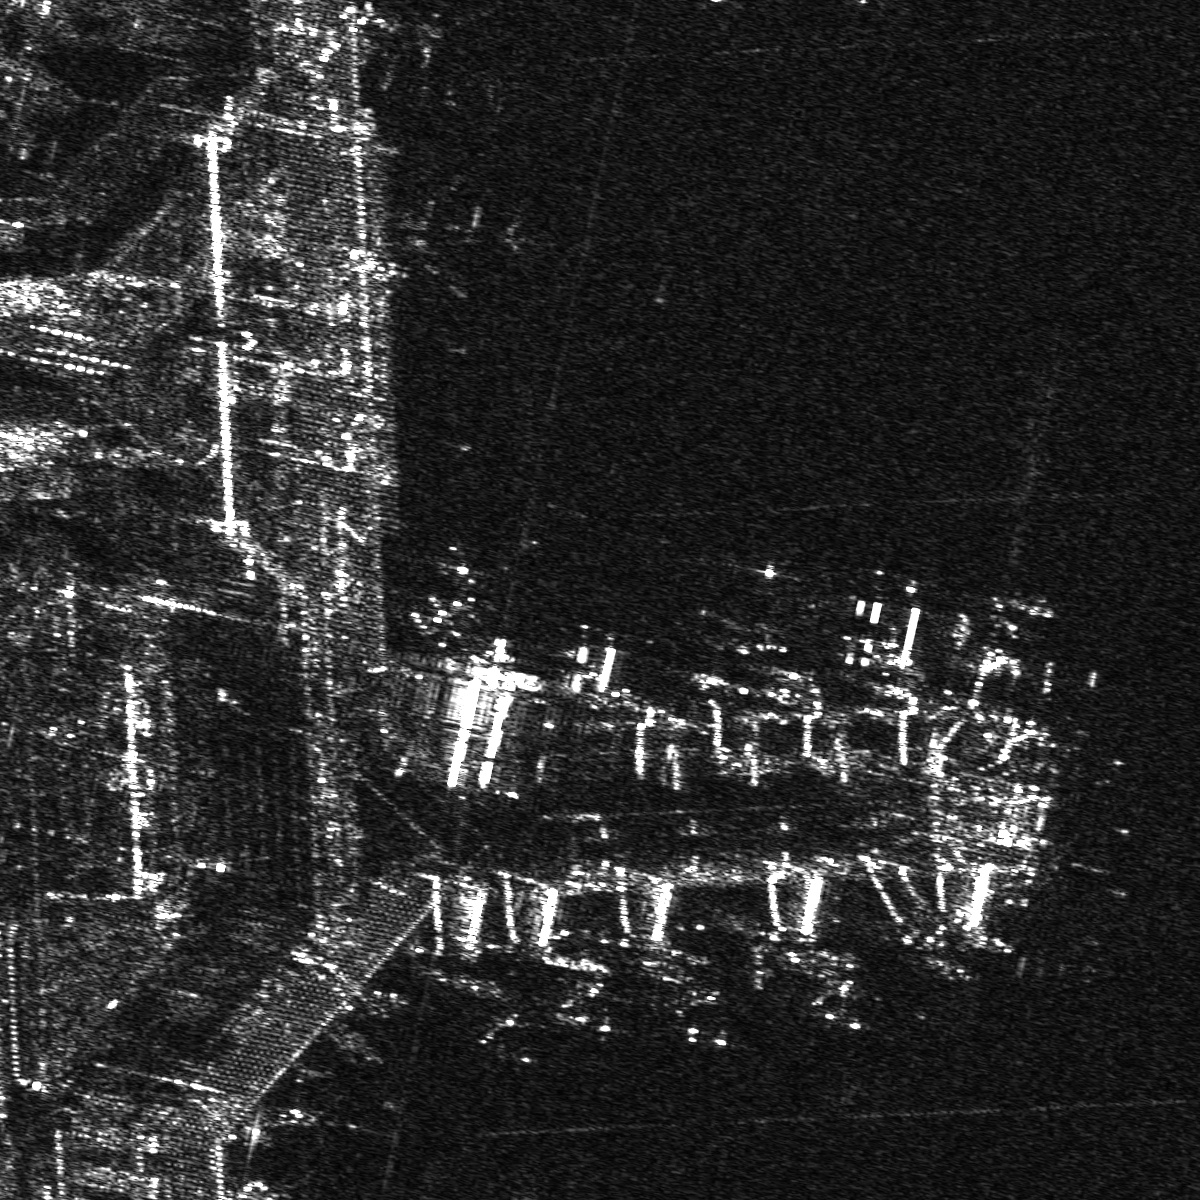A220: (557, 962, 631, 1034)
A320/321: (387, 174, 525, 305)
Boeing737: (479, 991, 545, 1068)
Boeing787: (665, 955, 729, 1045)
other: (809, 957, 881, 1031)
